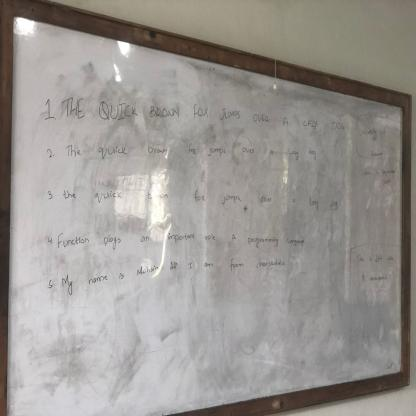Handwritten text: (57, 85, 350, 139), (55, 252, 293, 303), (56, 179, 346, 219), (58, 132, 326, 169), (52, 225, 311, 263)
Whiteboard: (1, 7, 407, 416)
